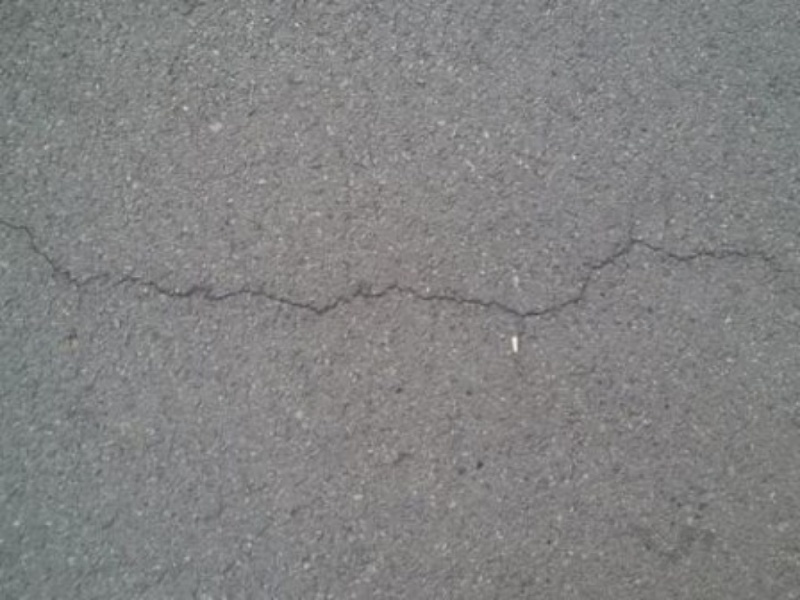crack: (6, 182, 793, 354)
